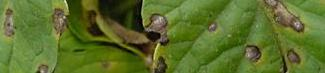Tomato Septoria leaf spot: (142, 0, 325, 73), (0, 0, 75, 73)
